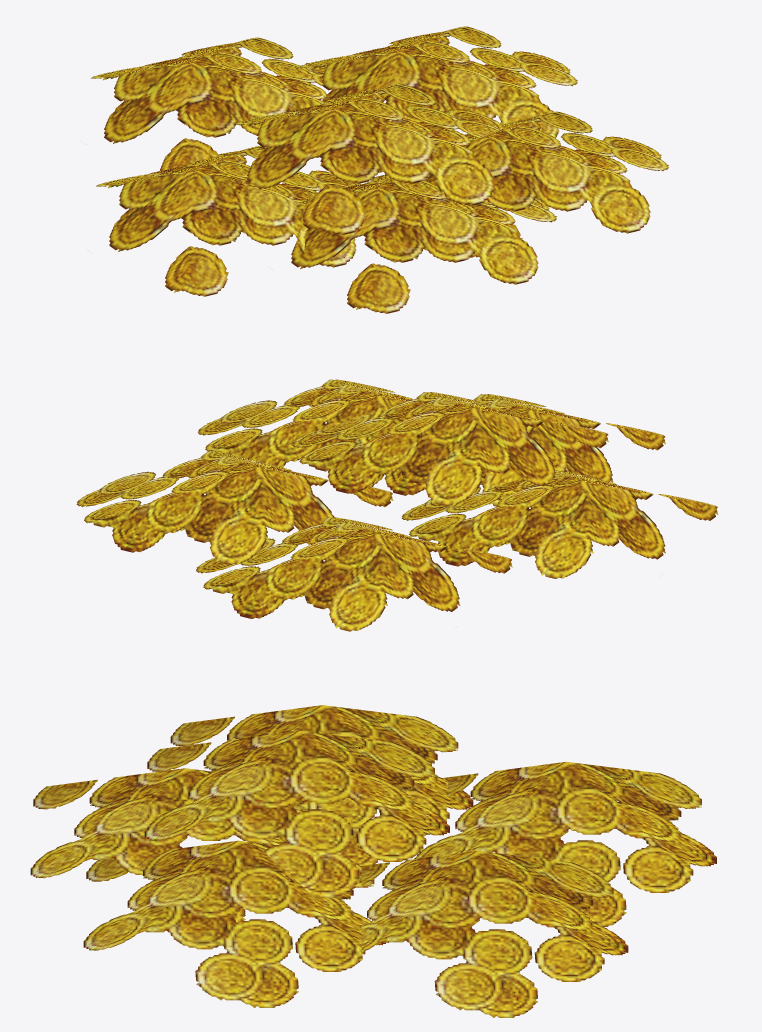
The model's file is drop_ch_money_large.glb.
The picture shows the model from 3 angles, top to bottom: view 1: azimuth 30°, elevation 25°; view 2: azimuth 150°, elevation 25°; view 3: azimuth 270°, elevation 25°; orthographic projection. The views are drawn at different scales.
Visible parts, largest first — view 1: drop_ch_money_large; view 2: drop_ch_money_large; view 3: drop_ch_money_large.
Part boxes in pixels (<box>): drop_ch_money_large: <box>91,26,668,313</box>; drop_ch_money_large: <box>76,379,718,631</box>; drop_ch_money_large: <box>30,705,716,1017</box>.
Size of the model in its own units: 0.6942 by 0.1273 by 0.7419.
1 material, 1 textured.
